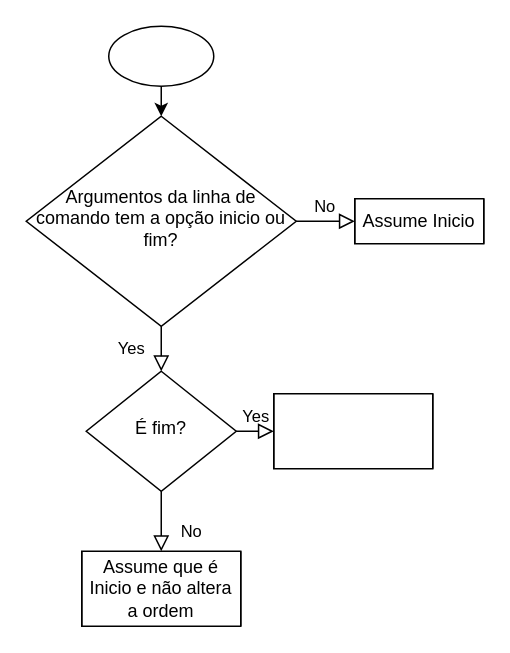
Image size: 510x653. Some labels were removed from this diagram. Each missing label, with the box of its shape:
Inverte a ordem da lista: (272, 392, 433, 469)
Main: (107, 25, 214, 86)
